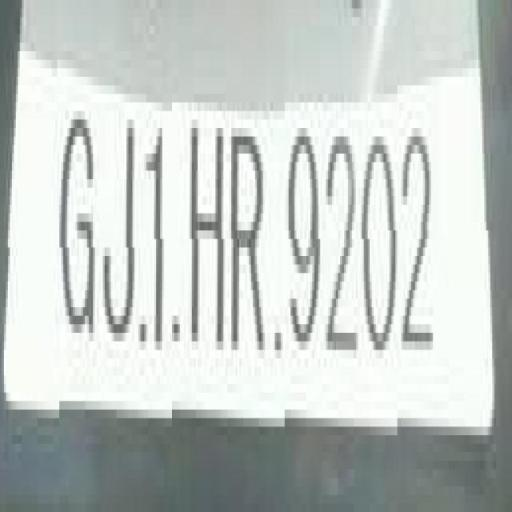number plate: (0, 42, 488, 486)
